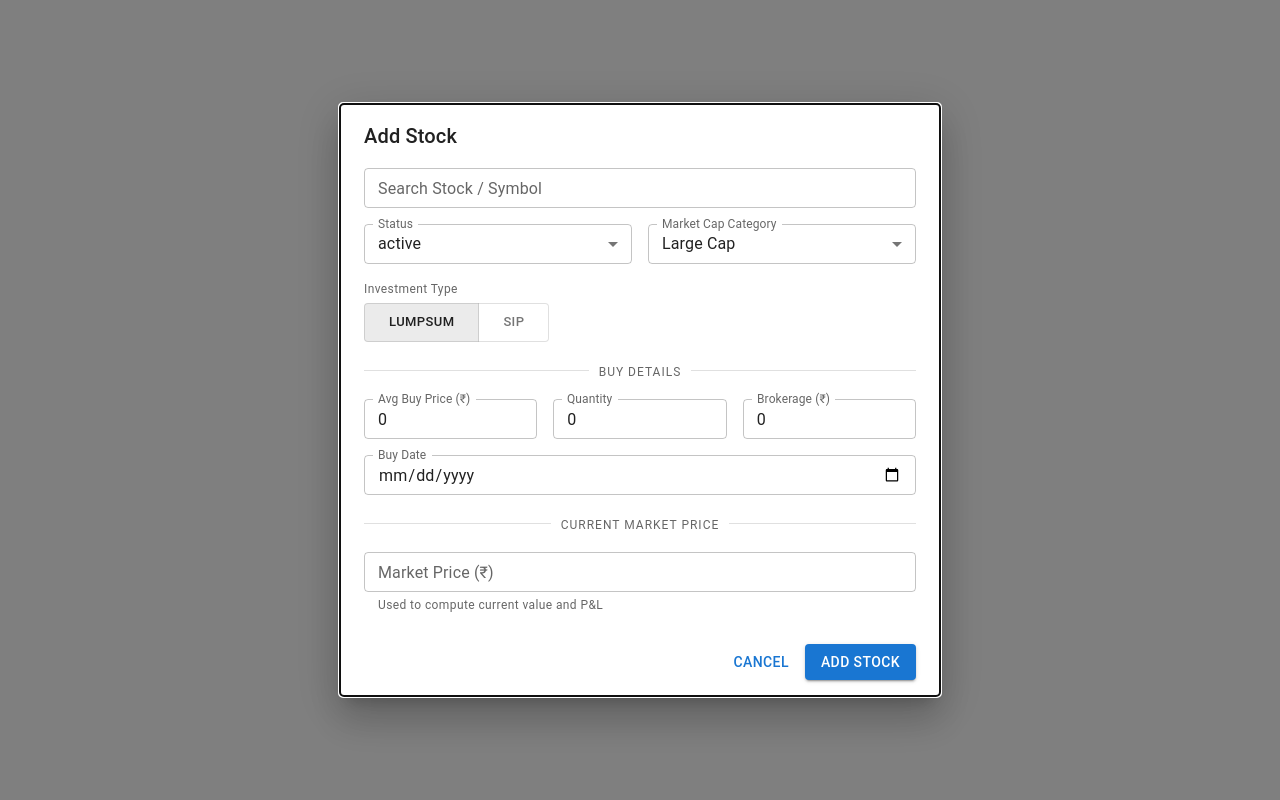
Test: StocksDialog › shows SIP section when SIP toggle clicked
Click the button "SIP" at (514, 323), box x1=478 y1=304 x2=549 y2=342
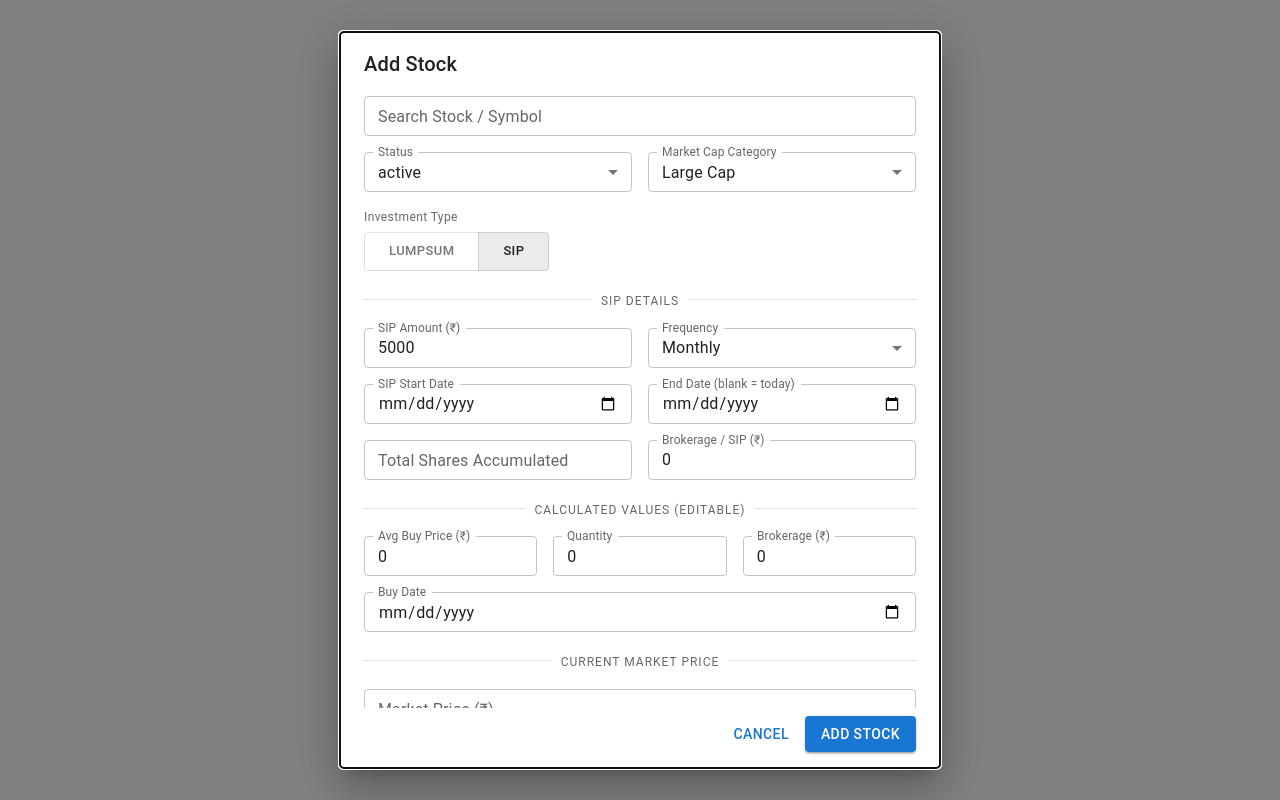
Now the text "SIP DETAILS" is shown, box x1=601 y1=294 x2=679 y2=308
